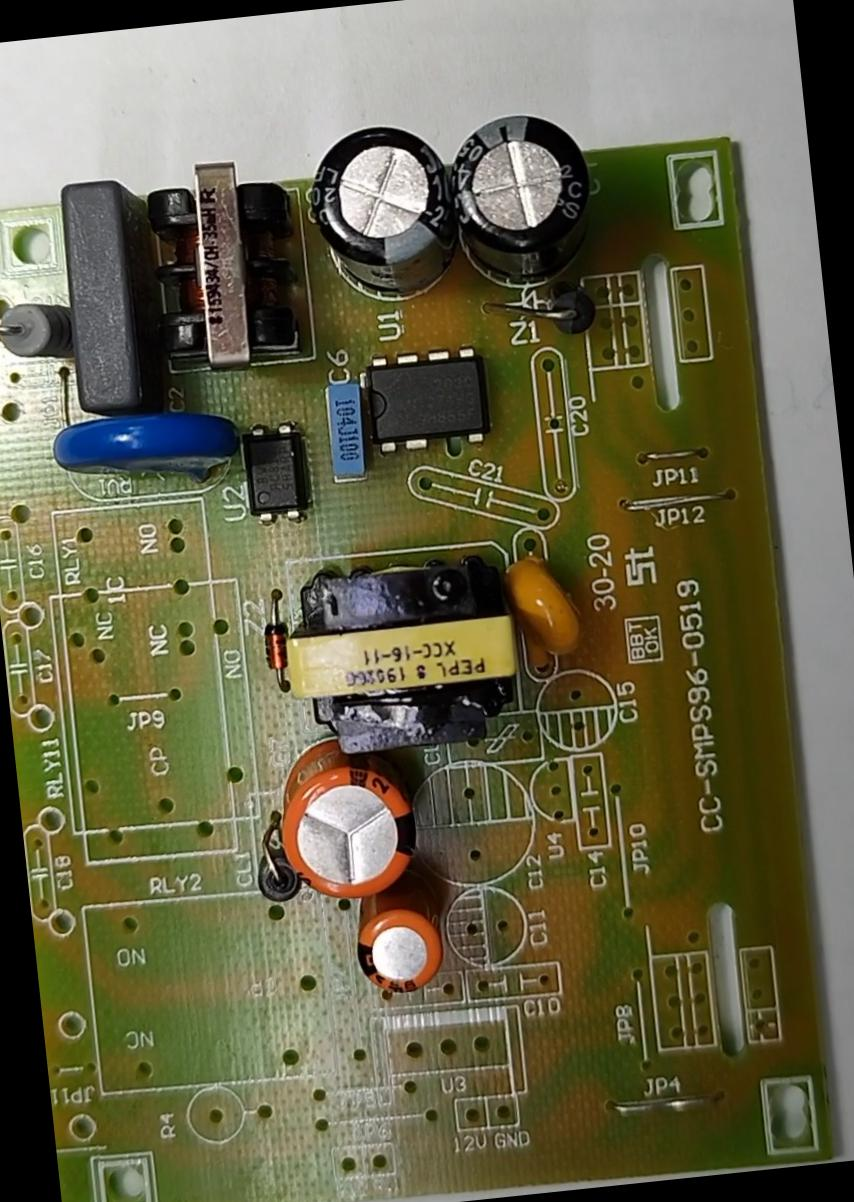Cap1: (262, 725, 433, 922)
Cap2: (322, 885, 474, 1020)
Cap3: (292, 92, 468, 343)
Cap4: (435, 82, 622, 324)
MOSFET: (342, 330, 507, 478)
Mov: (25, 392, 263, 536)
Resistor: (0, 283, 78, 379)
Transformer: (240, 518, 558, 796), (104, 147, 346, 425)
